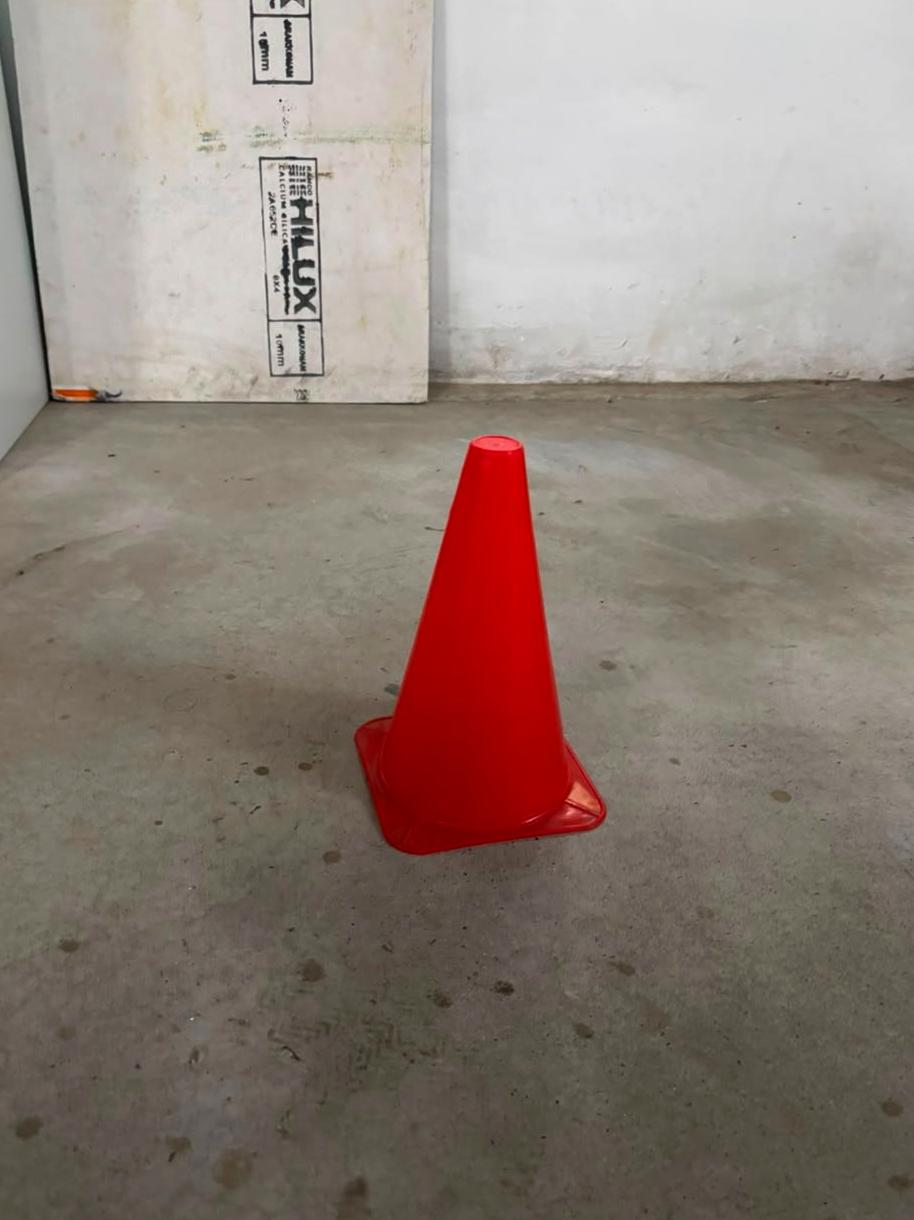0 cone: (355, 435, 605, 854)
